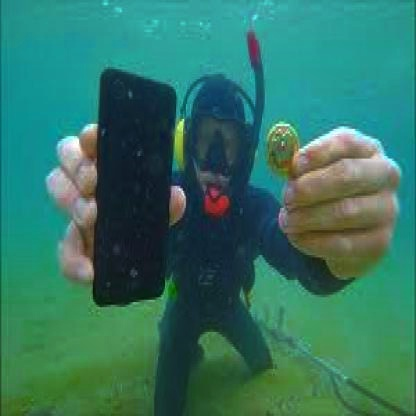cellphone: (93, 69, 177, 307)
misc: (266, 121, 300, 176)
